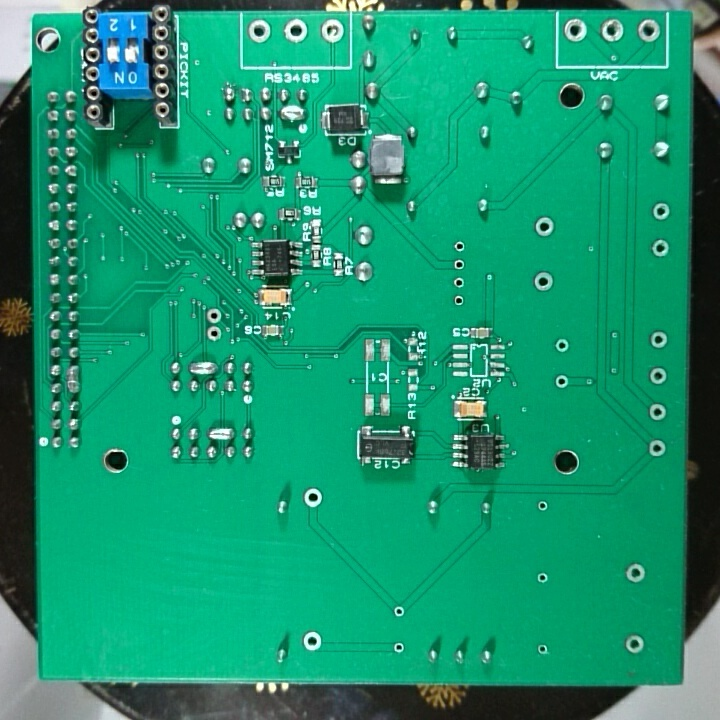F: (318, 16, 345, 46), (247, 18, 274, 46), (599, 16, 625, 45), (281, 18, 310, 44), (530, 269, 557, 296), (531, 213, 557, 241), (299, 629, 326, 655), (622, 560, 648, 586), (563, 16, 588, 43), (621, 632, 648, 657), (637, 17, 661, 45), (646, 326, 670, 352), (645, 397, 668, 424), (648, 235, 672, 260), (301, 485, 325, 510), (645, 436, 669, 459), (647, 363, 669, 388), (552, 334, 571, 358), (651, 200, 671, 222), (204, 306, 224, 326), (205, 323, 224, 342), (450, 235, 468, 255), (554, 372, 571, 392), (451, 290, 468, 310), (390, 603, 407, 622), (534, 569, 551, 588), (451, 272, 467, 292), (450, 256, 468, 273), (535, 640, 551, 659), (391, 640, 407, 657), (535, 498, 550, 516)
P: (205, 423, 237, 444), (65, 364, 84, 396), (188, 358, 218, 378), (279, 104, 309, 123)
